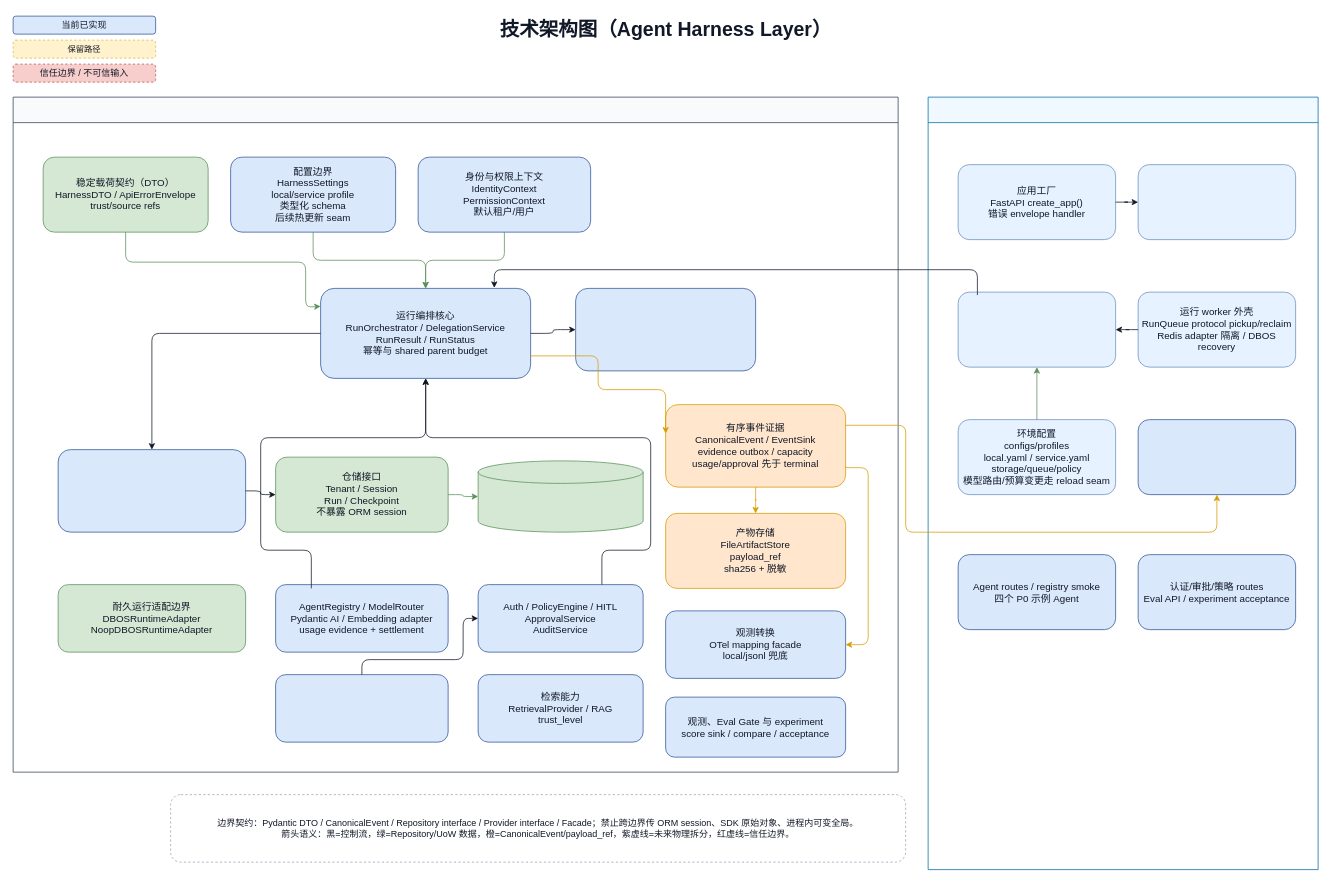
Some shapes in this 1331 by 883 pixel diagram are drawn without their labels. Each missing label, with the box of its shape:
HTTP SSE / Last-Event-ID CLI NDJSON / --after-seq P1 可选：WS adapter: (1137, 419, 1296, 495)
ToolRegistry File/Shell/MCP client output_guard: (275, 674, 448, 742)
存储适配器 SQLAlchemyStorage UnitOfWork 事务边界: (57, 449, 246, 532)
数据库实现 SQLAlchemy 2.0 / Alembic SQLite / PostgreSQL 当前 head：0016: (477, 460, 643, 532)
核心包 packages/agent-harness：稳定契约与运行时边界: (12, 96, 898, 772)
检查点与恢复契约 CheckpointStore Protocol ResumeToken ApprovalWaitState: (575, 288, 756, 371)
模板应用 template service-app：薄 API / worker / profile 装配层: (927, 96, 1318, 870)
运行接口路由 RUN-001..005 薄协议适配层: (1137, 164, 1296, 240)
运行组件装配 RuntimeComponents storage + event_sink + orchestrator: (957, 291, 1116, 367)
